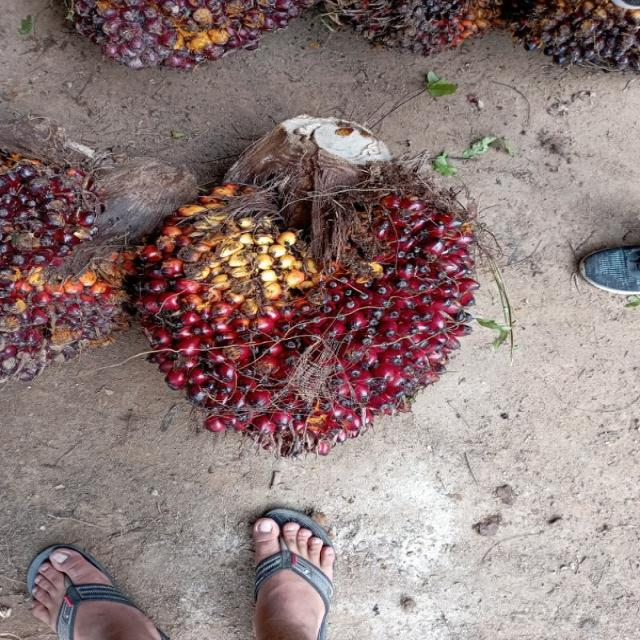fraksi 3: (123, 160, 480, 457)
